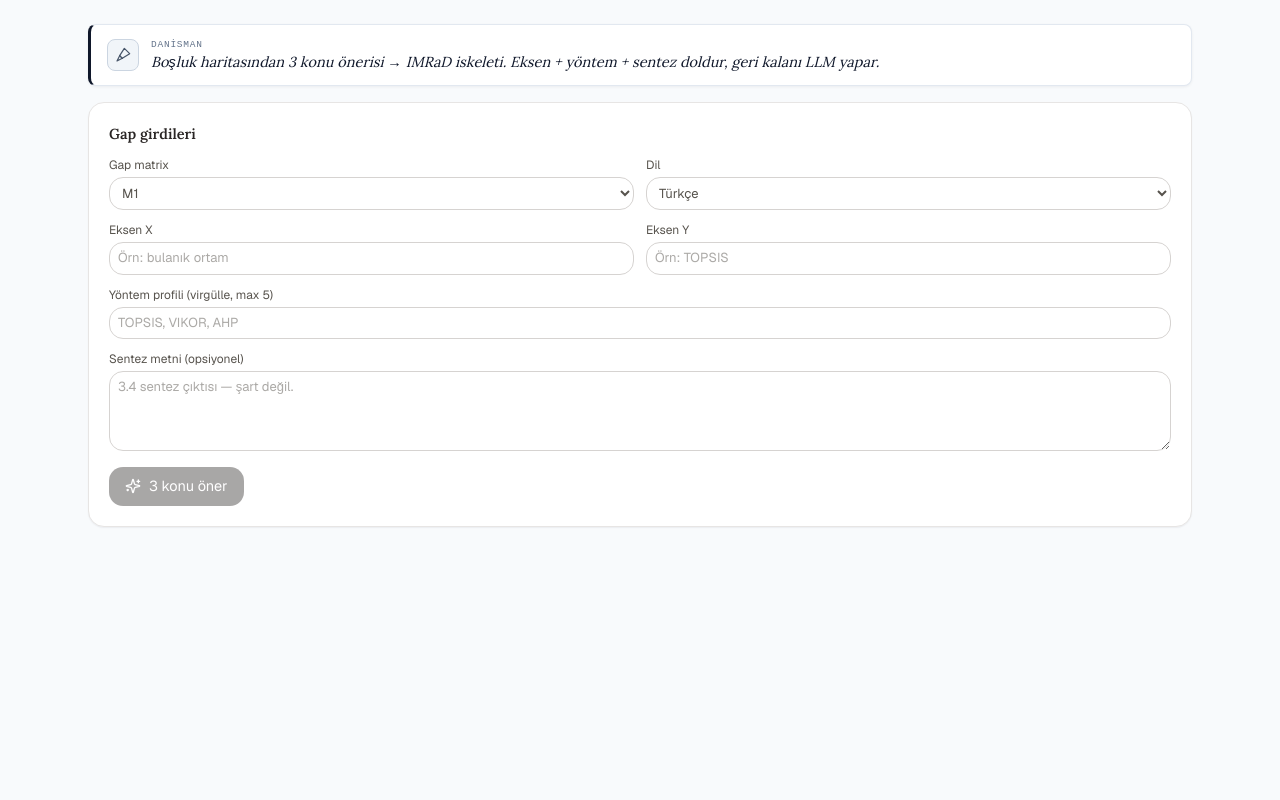
Test: WritingSkeletonPage › eksen + buton → POST /topic-proposals + 3 kart + kota gosterimi
Type "bulanık" into the field with placeholder "Örn: bulanık ortam". click: (372,258)
box: [109,242,634,275]
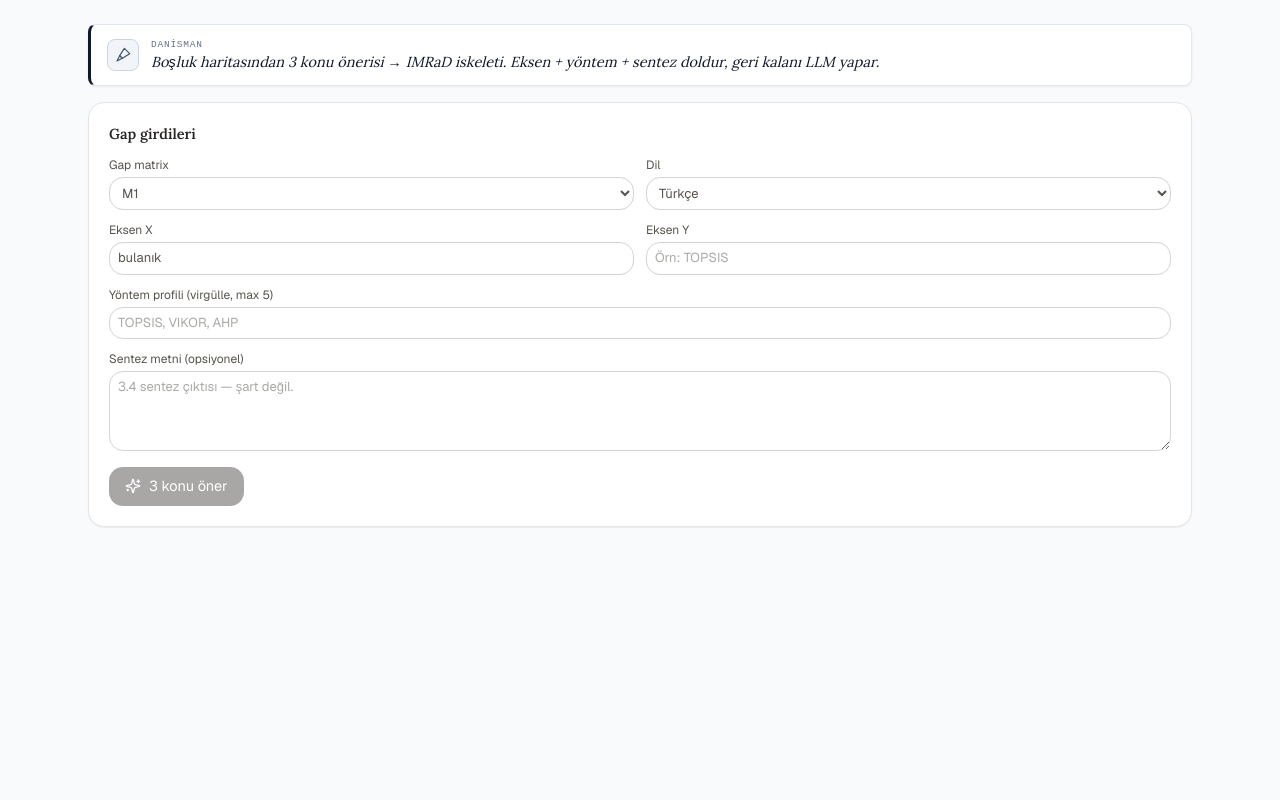
Type "TOPSIS" into the field with placeholder "Örn: TOPSIS". click: (908,258)
box: [646,242,1171,275]
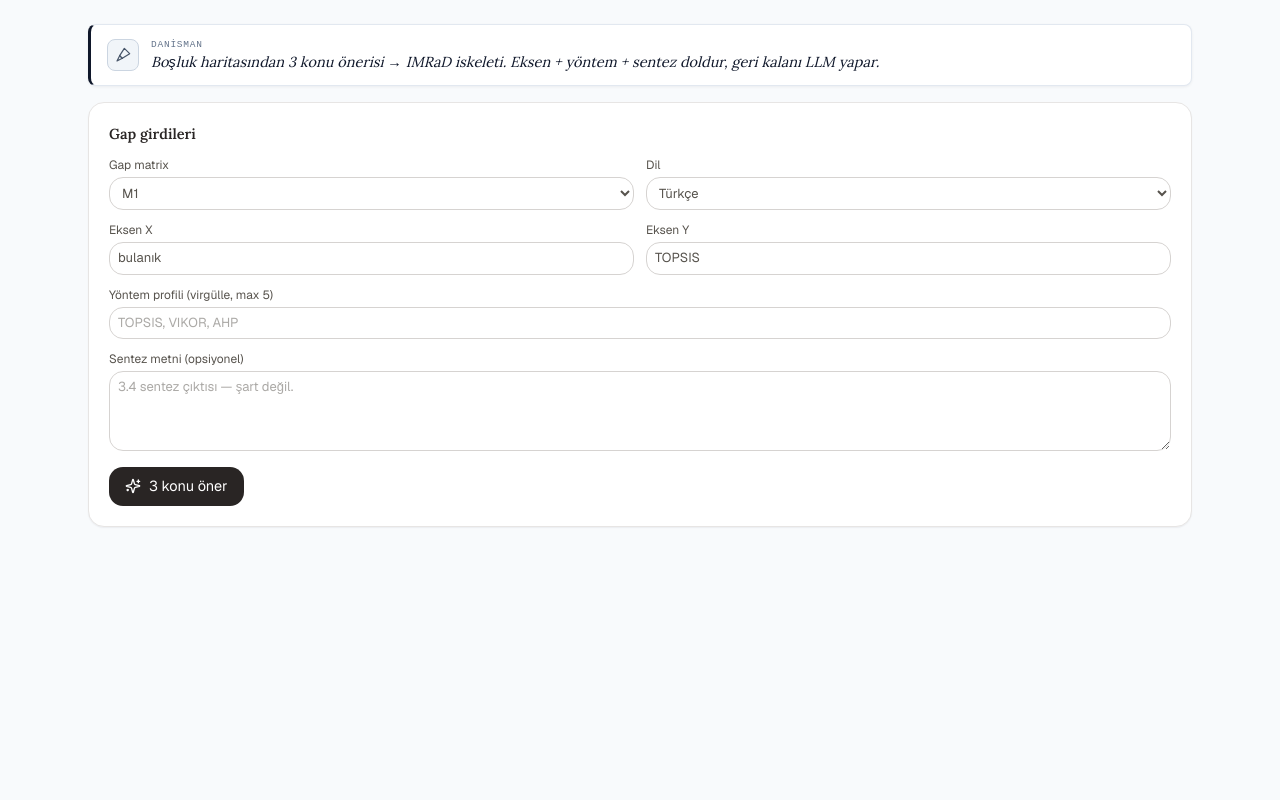
Click the button "3 konu öner". click: (176,486)
box: [109,467,244,506]
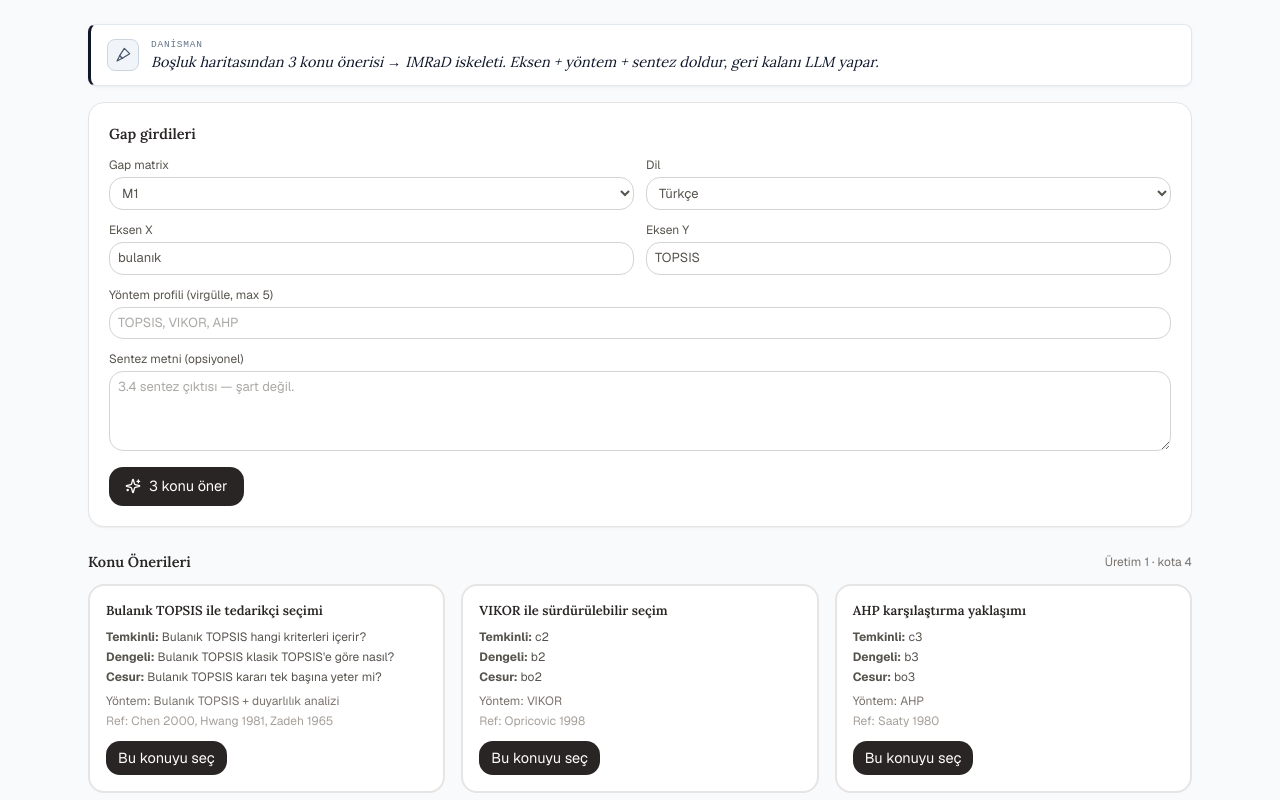
Now the heading "Bulanık TOPSIS ile tedarikçi seçimi" is shown, box [106,602,323,621]
Now the heading "VIKOR ile sürdürülebilir seçim" is shown, box [479,602,668,621]
Now the heading "AHP karşılaştırma yaklaşımı" is shown, box [853,602,1026,621]
